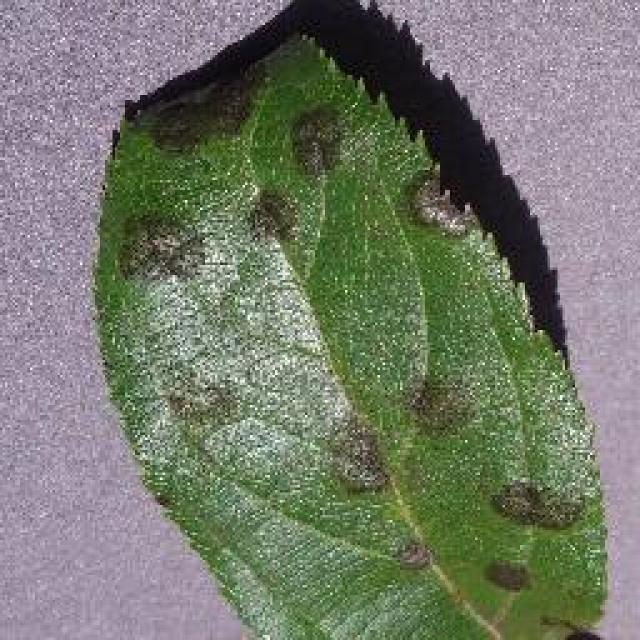apple scab disease: (87, 0, 615, 638)
